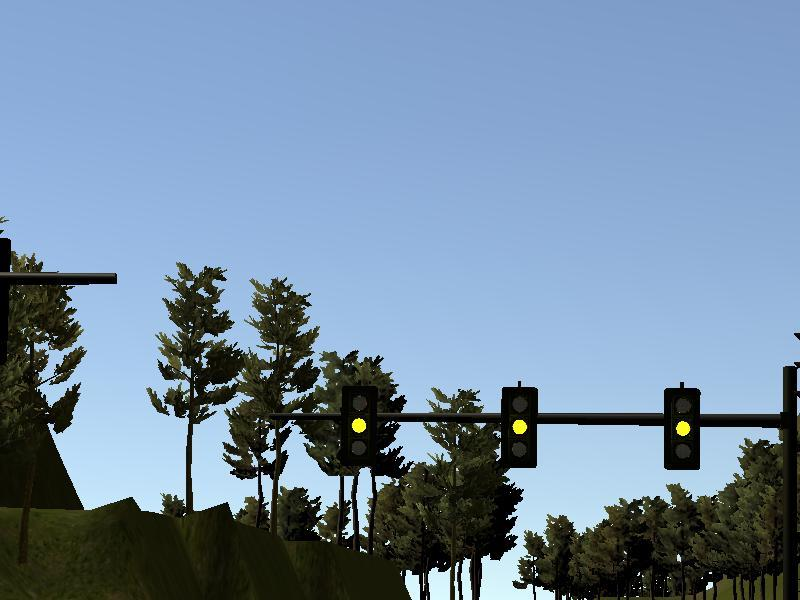Yellow: (664, 389, 700, 469), (502, 387, 537, 468), (342, 385, 375, 464)
